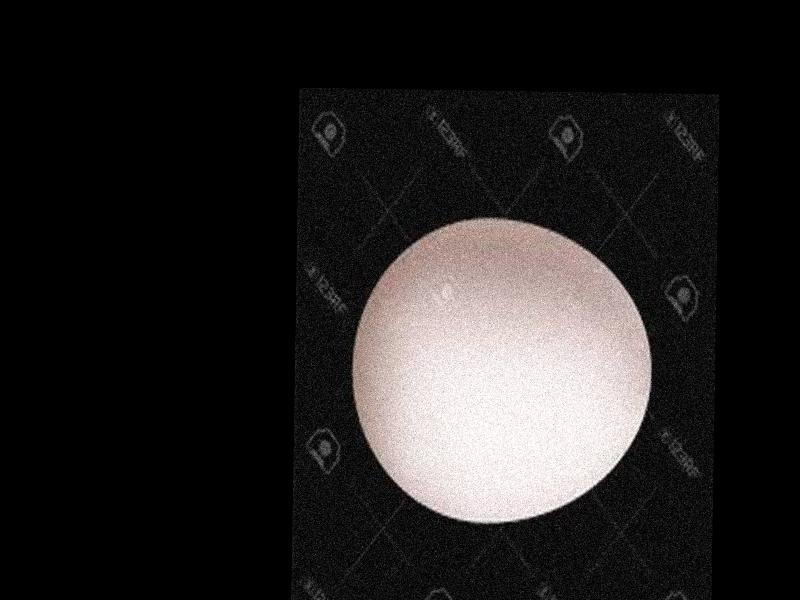Eggs: (351, 220, 651, 524)
